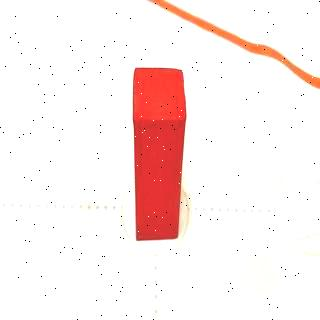redbox: (132, 66, 188, 240)
